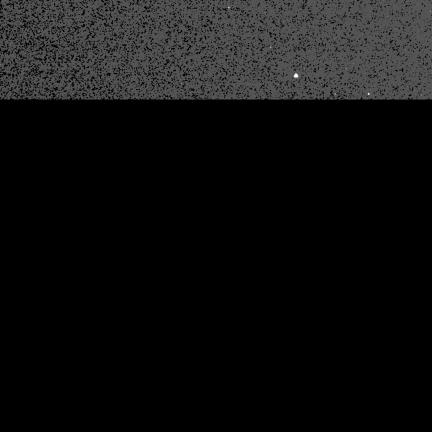blob: (294, 73, 298, 78), (368, 93, 370, 96)
